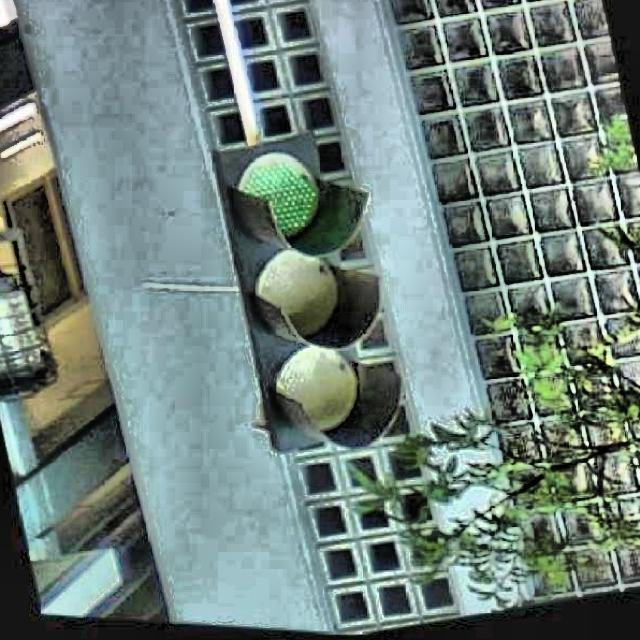green: (233, 126, 395, 468)
